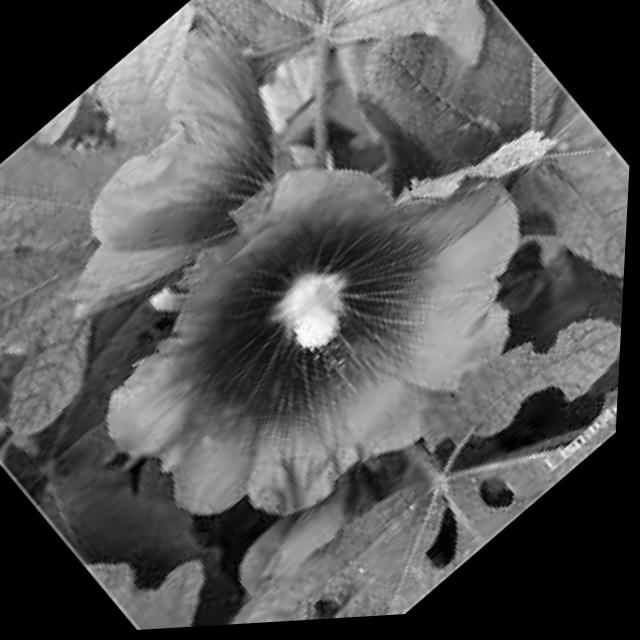Flower: (38, 73, 595, 613), (0, 1, 350, 355)
